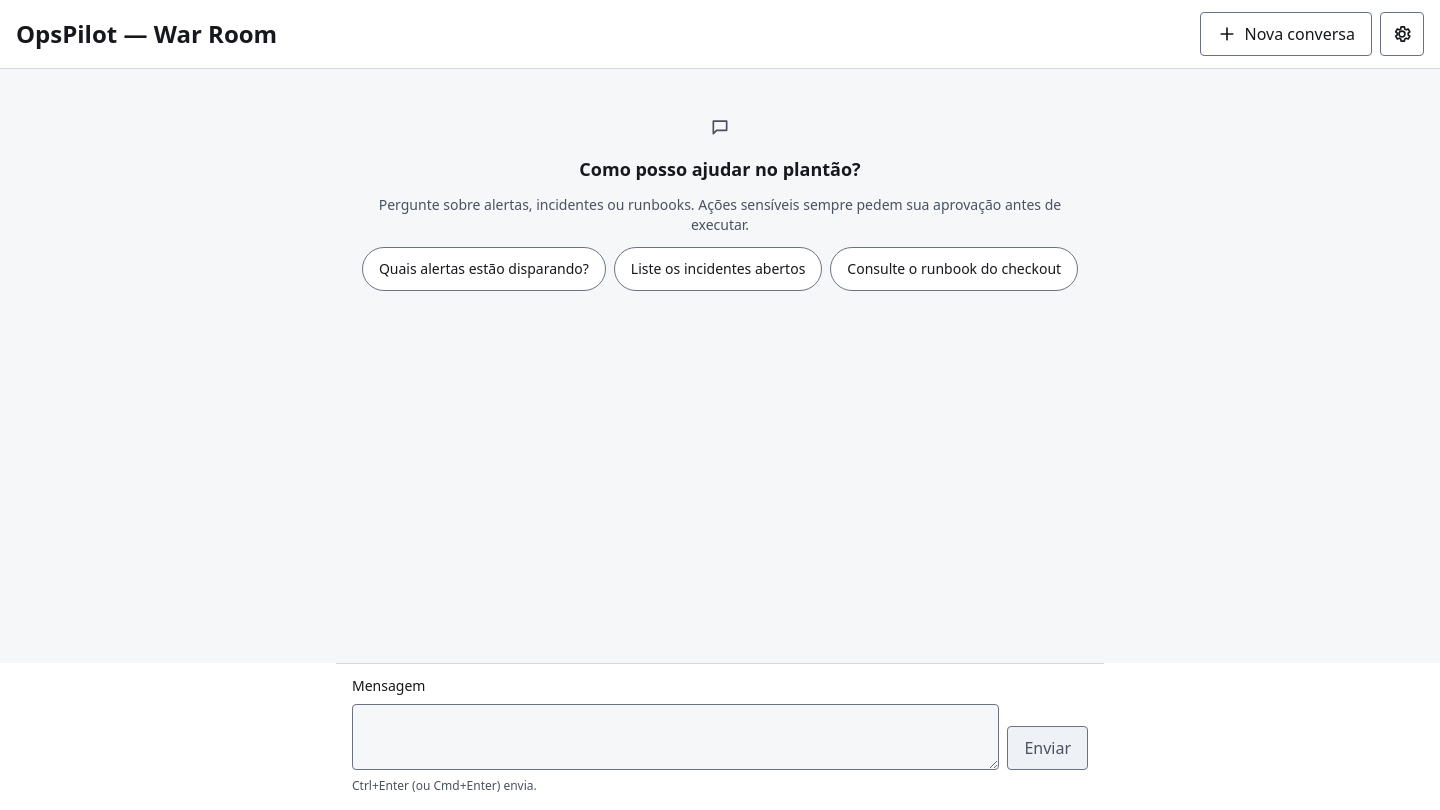
SettingsDialog › changing the URL with an active conversation starts a new one with a notice
Type "oi" into the text box labelled "Mensagem" at [676, 737], box [352, 704, 999, 770]
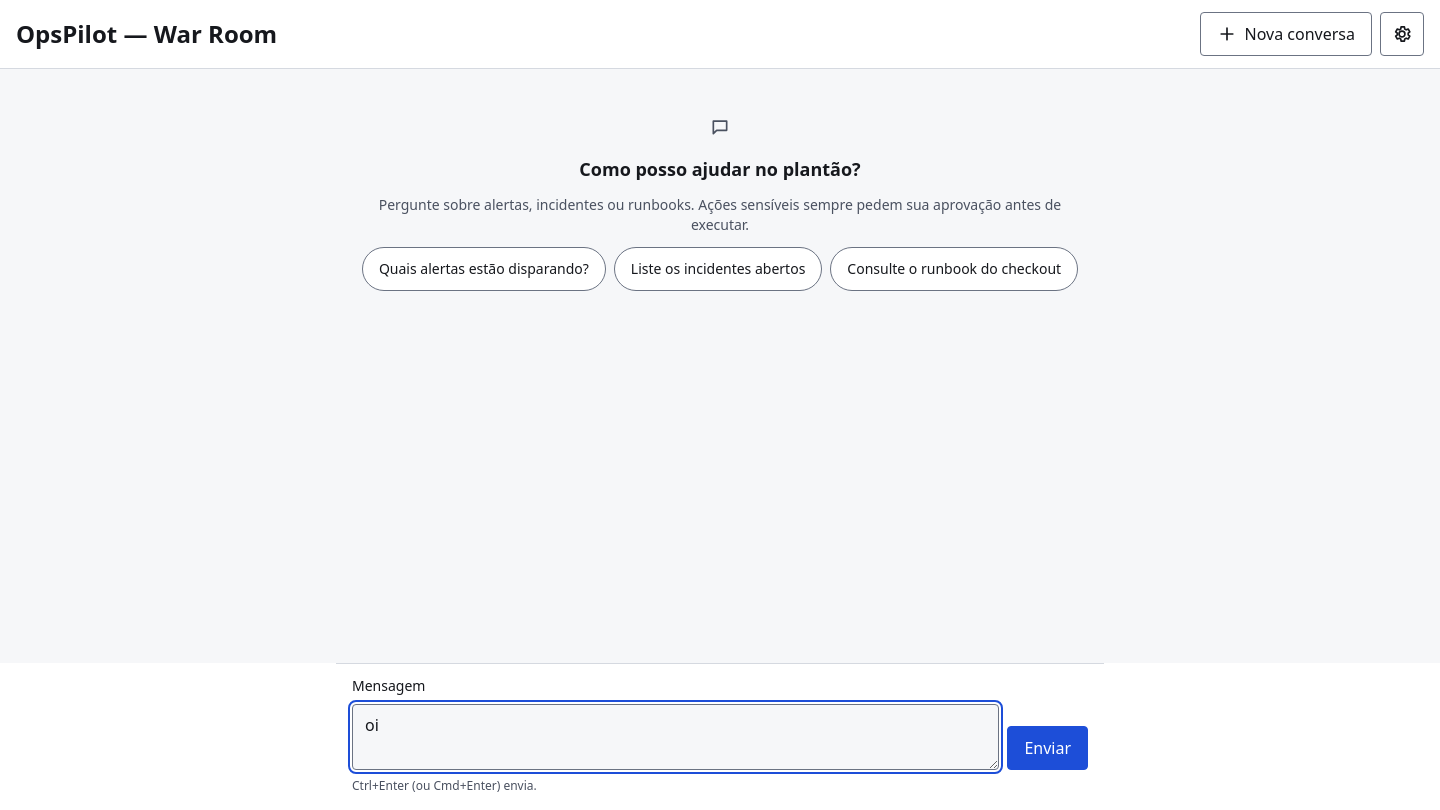
Click the button "Enviar" at [1048, 748], box [1007, 726, 1088, 770]
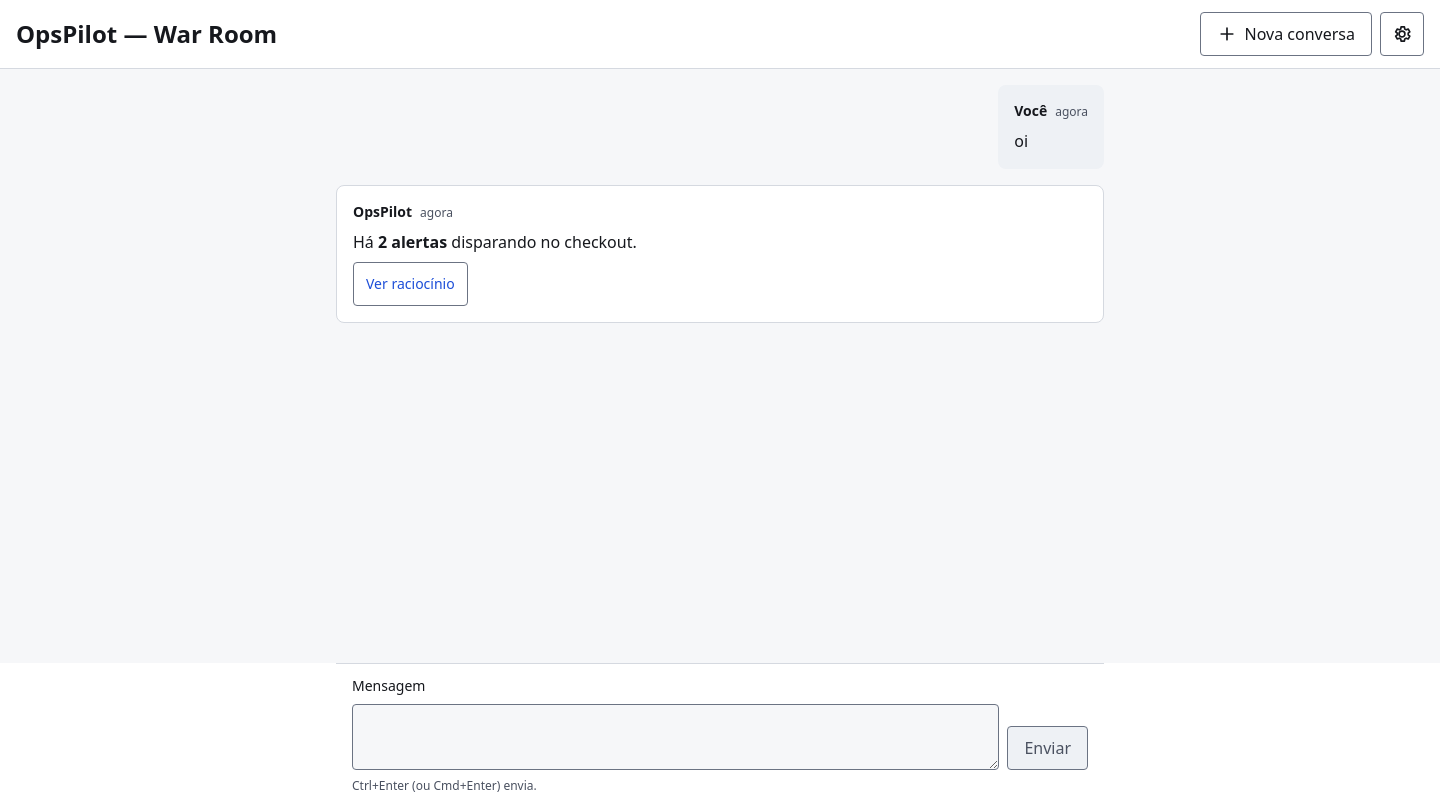
Now the text "2 alertas" is shown, box [378, 231, 447, 253]
Click the button named "Configurações" at [1402, 34], box [1380, 12, 1424, 56]
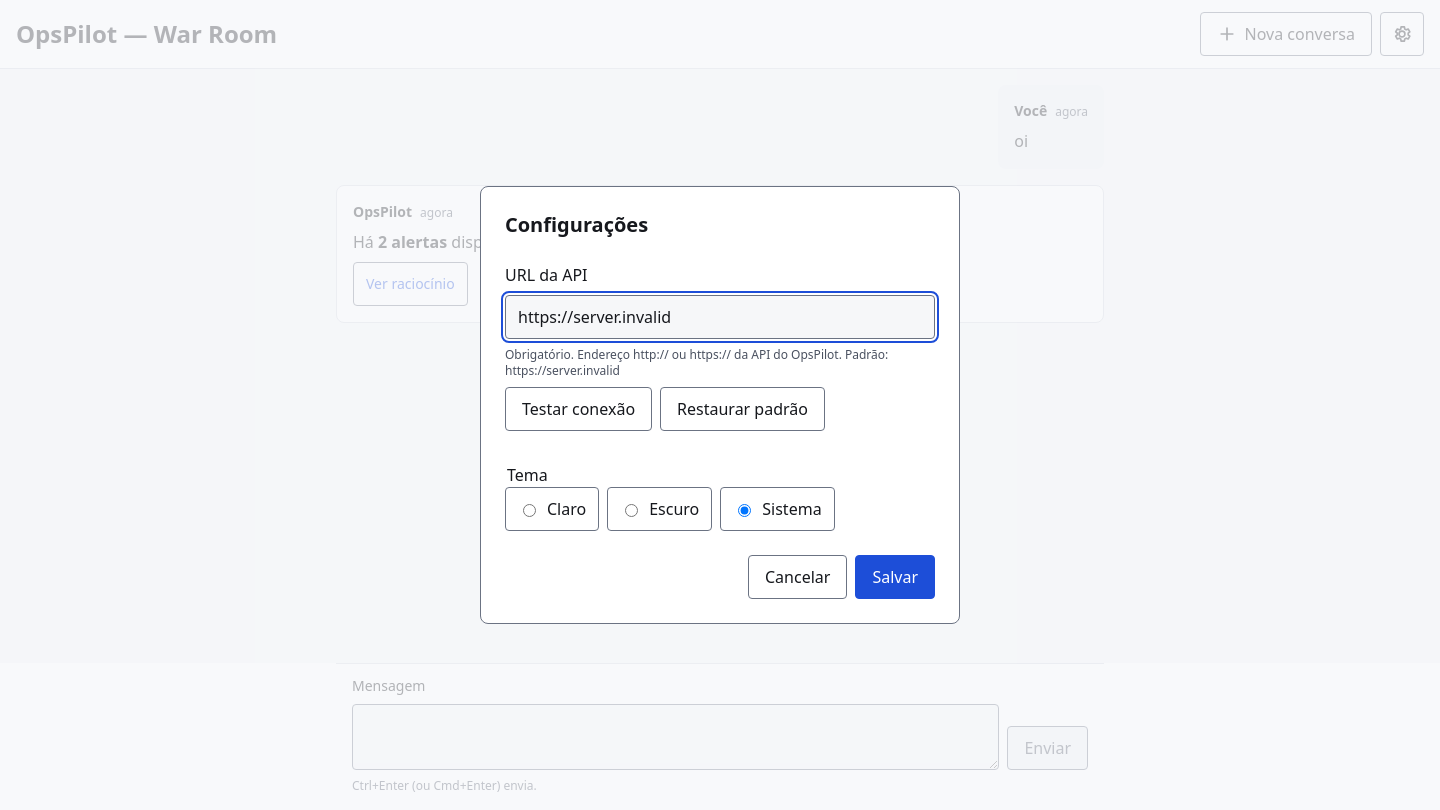
Replace the text in the field labelled "URL da API" with "https://outra.api" at [720, 317], box [505, 295, 935, 339]
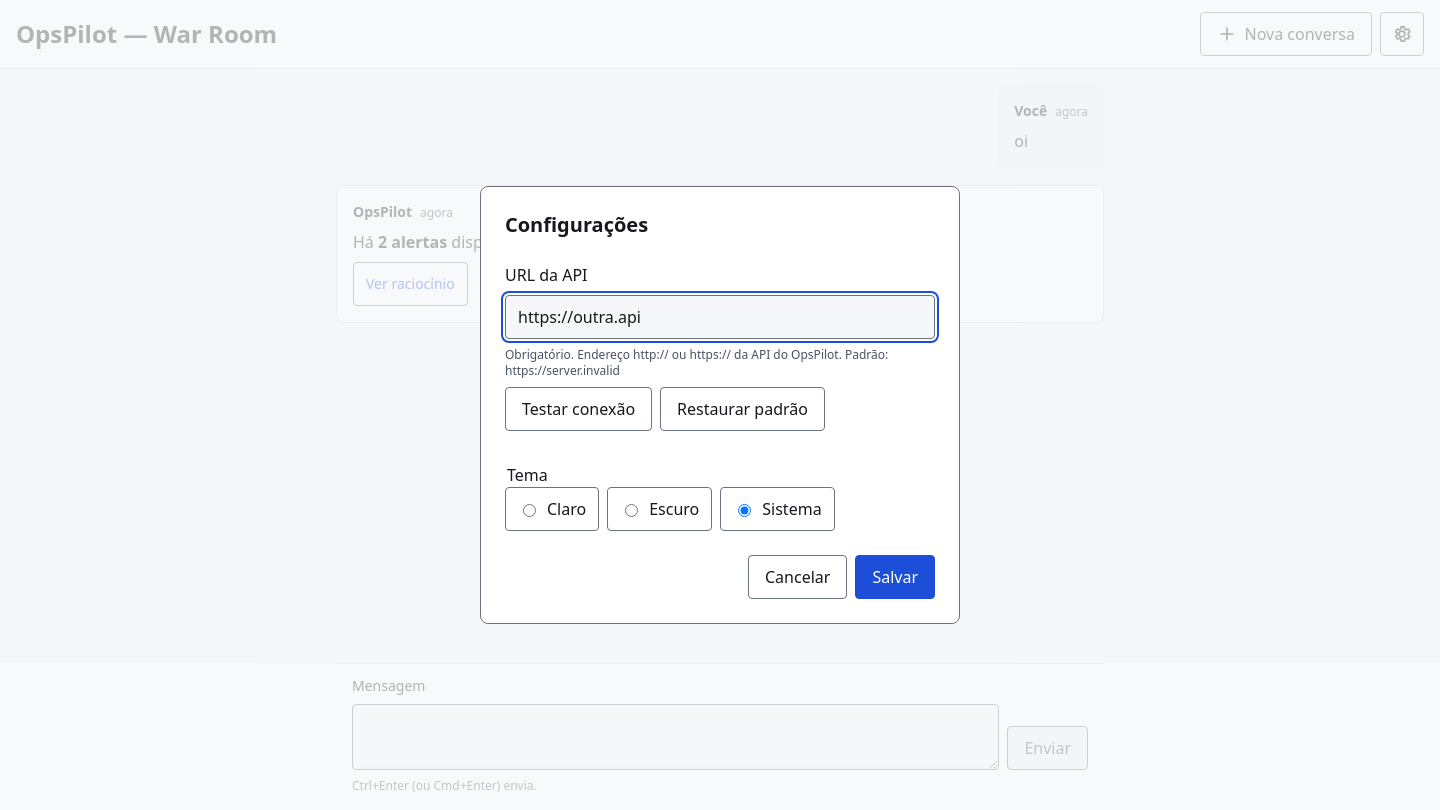
Click the button "Salvar" at [895, 577], box [855, 555, 935, 599]
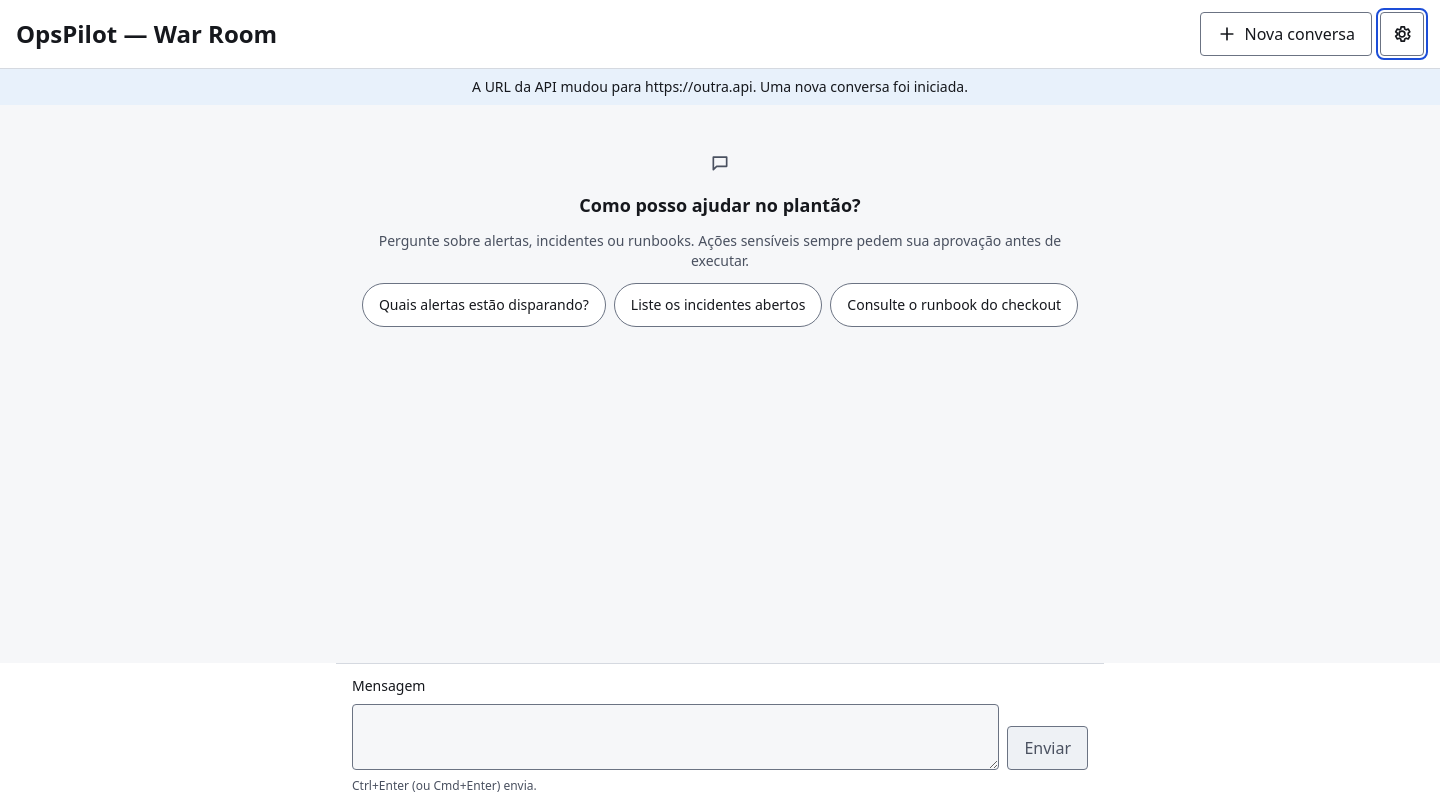
Now the text "2 alertas" is gone
Now the text "A URL da API mudou para https://outra.api. Uma nova conversa foi iniciada." is shown, box [0, 69, 1439, 105]
